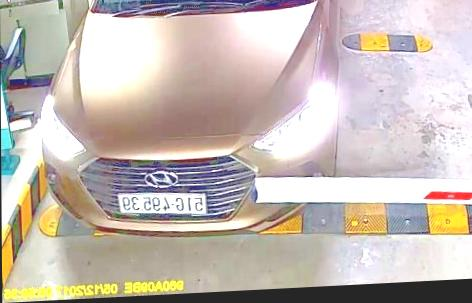License_Plate: (115, 189, 210, 218)
